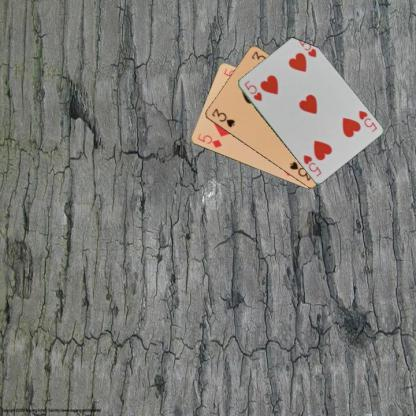3s: (208, 106, 236, 129)
5d: (195, 131, 223, 149)
5h: (356, 108, 378, 134), (241, 78, 263, 102)
